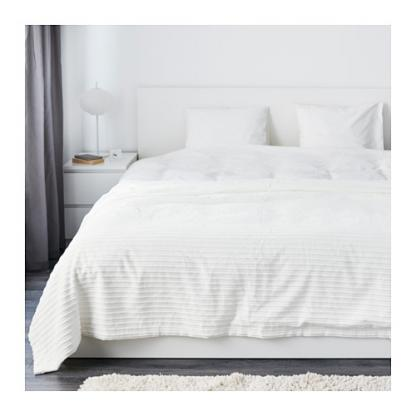Bed: (58, 84, 394, 363)
